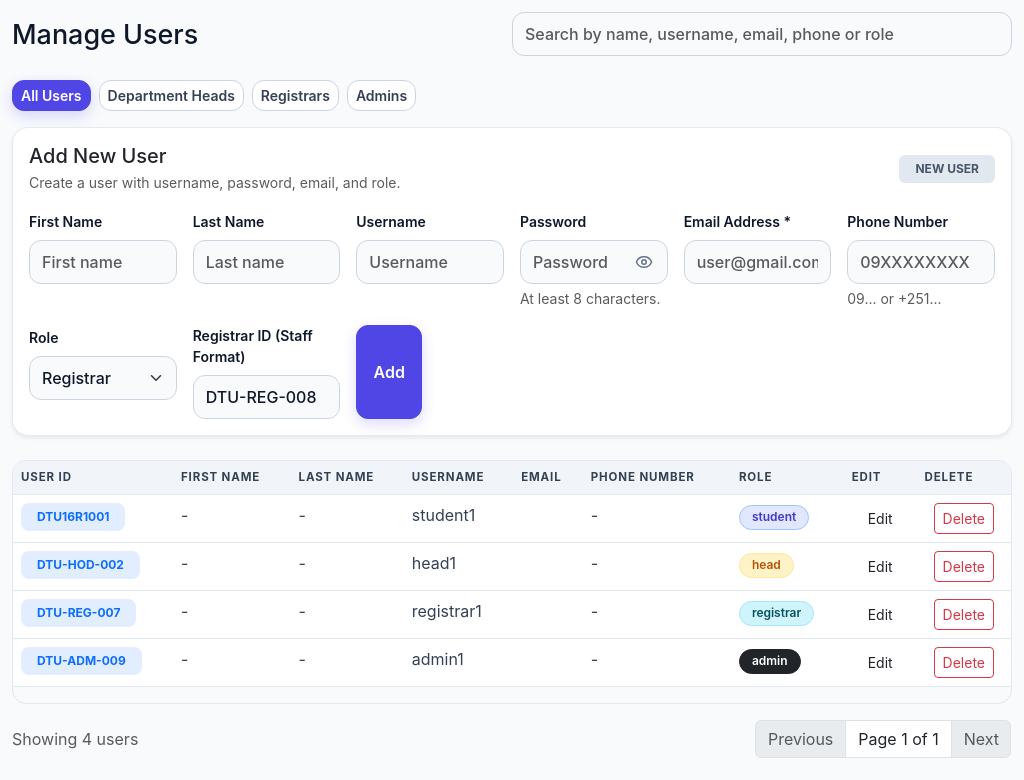
it: ManageUsers › offers only staff roles and generates editable IDs for the selected role
Expected: the field labelled "Registrar ID (Staff Format)" holds "DTU-REG-008", x1=193 y1=375 x2=340 y2=419
Select "Head" in the dropdown labelled "Role" at (103, 378), box x1=29 y1=356 x2=177 y2=400
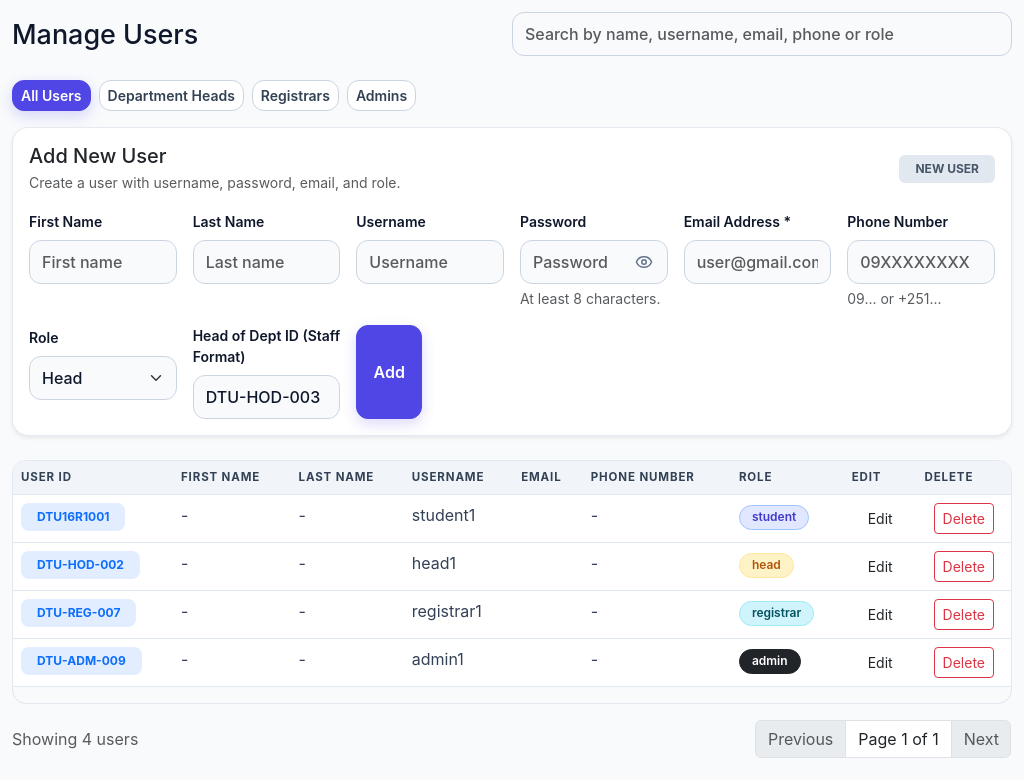
Expected: the field labelled "Head of Dept ID (Staff Format)" holds "DTU-HOD-003", x1=193 y1=375 x2=340 y2=419
Select "Registrar" in the dropdown labelled "Role" at (103, 378), box x1=29 y1=356 x2=177 y2=400
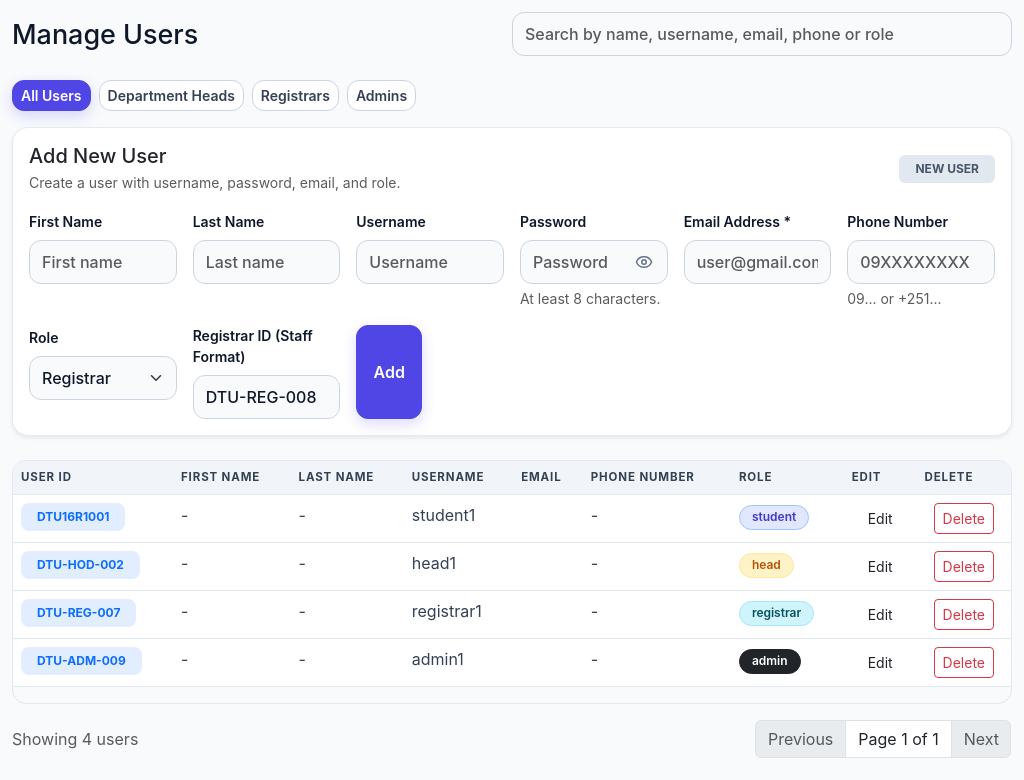
Expected: the field labelled "Registrar ID (Staff Format)" holds "DTU-REG-008", x1=193 y1=375 x2=340 y2=419
Select "Admin" in the dropdown labelled "Role" at (103, 378), box x1=29 y1=356 x2=177 y2=400
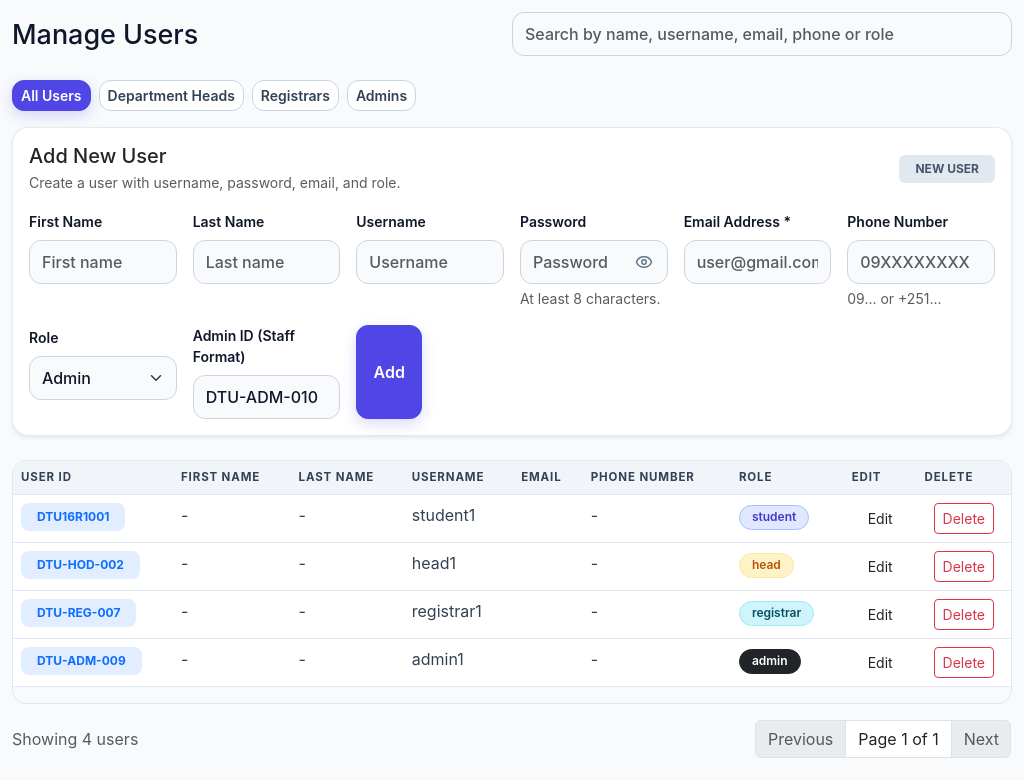
Expected: the text "DTU16R1001" is shown, x1=21 y1=503 x2=126 y2=531
Expected: the field labelled "Admin ID (Staff Format)" holds "DTU-ADM-010", x1=193 y1=375 x2=340 y2=419
